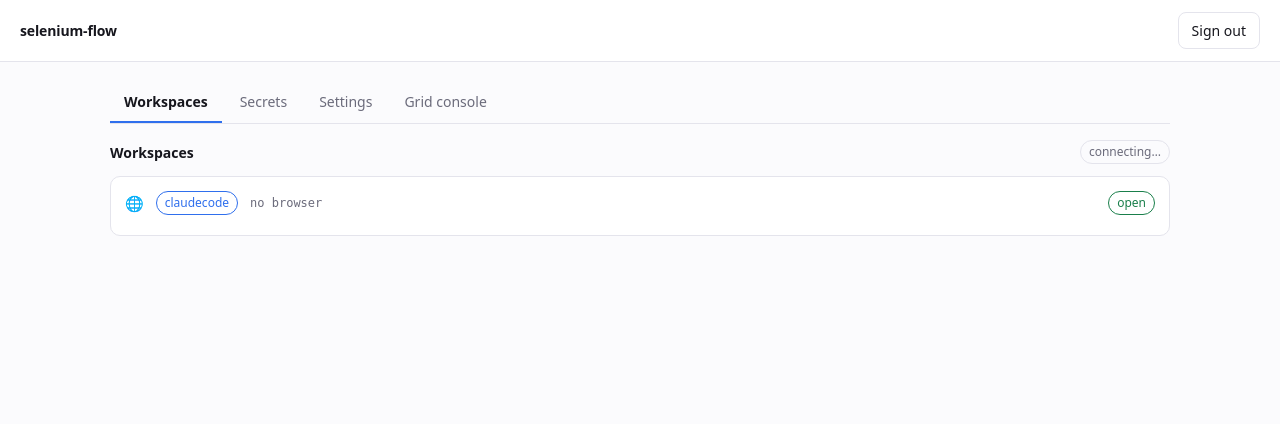
it: Sign out stops the stream and forgets the token (A4)
The width and height of the screenshot is (1280, 424).
Click the button "Sign out": (1219,30) [1178, 12, 1260, 49]
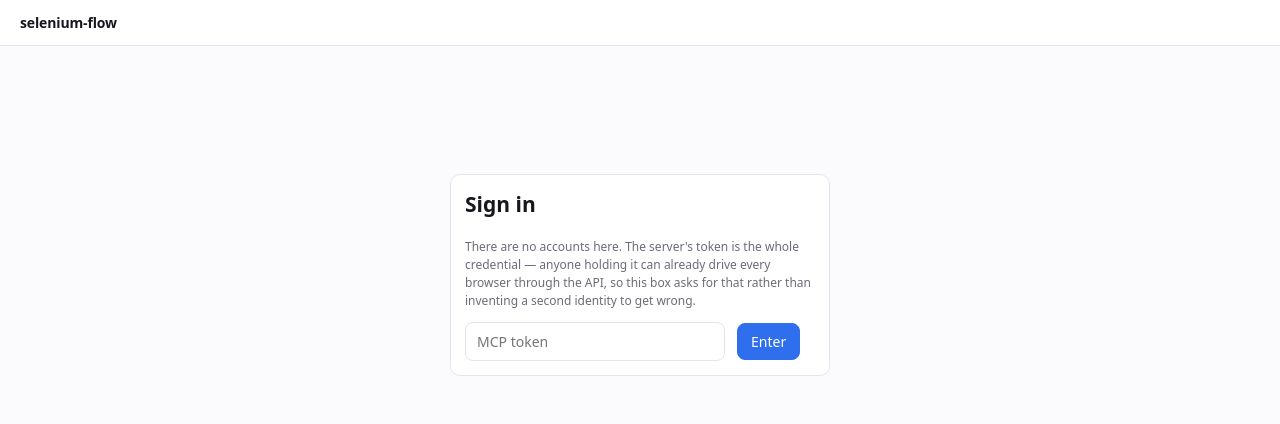
Expected: the element with id "login" is shown, [430, 154, 850, 408]
